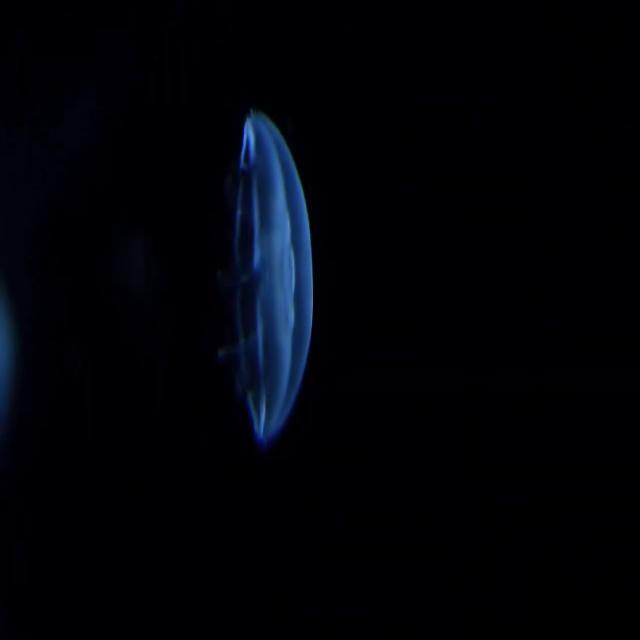Moon-jellyfish: (219, 108, 316, 457)
